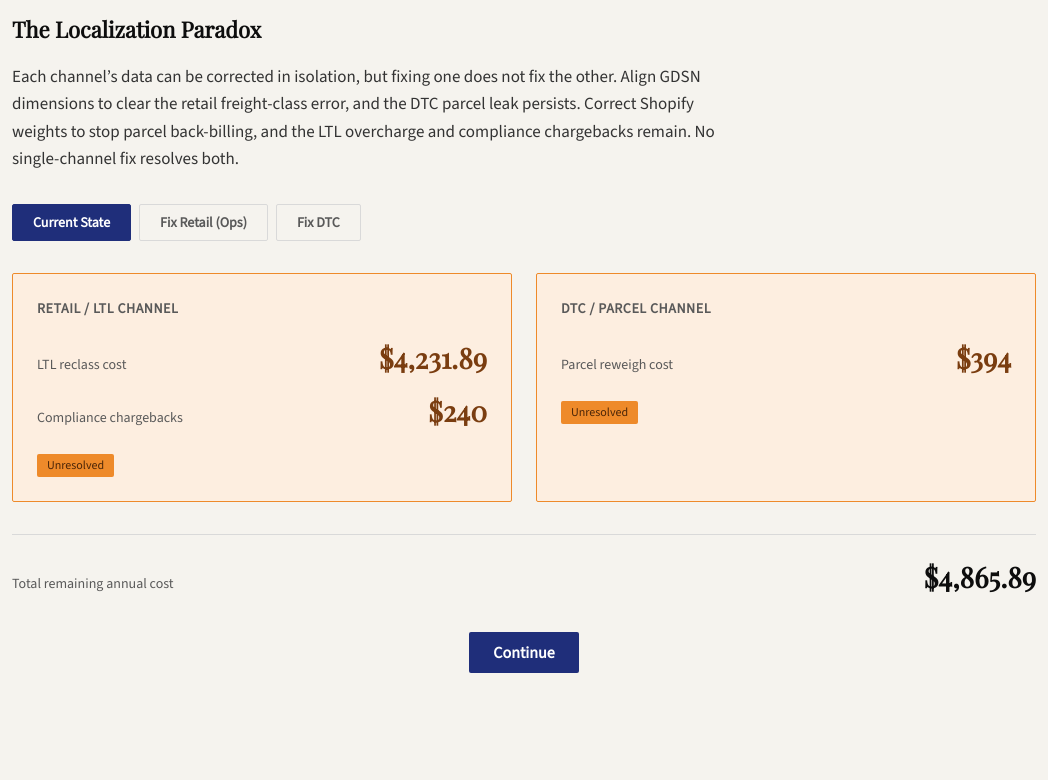
Test: ParadoxToggle › Fix DTC clears parcel channel, retail remains
The width and height of the screenshot is (1048, 780).
Click the button "Fix DTC": click(318, 222) [276, 204, 361, 241]
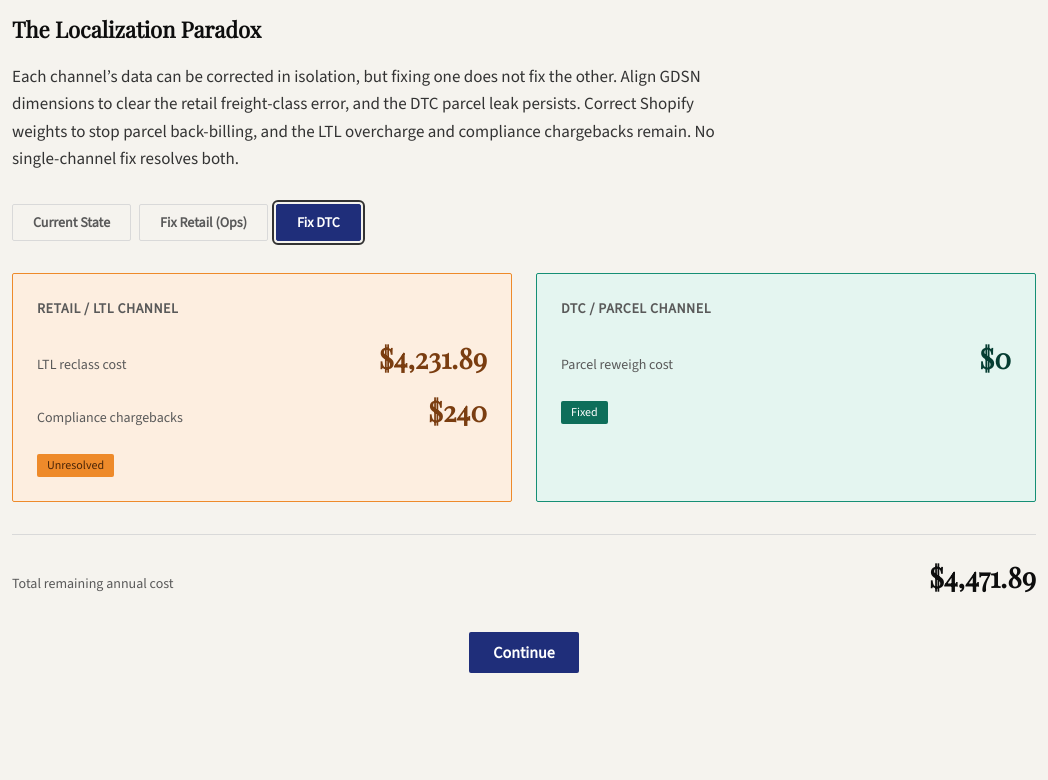
Expected: the text "Unresolved" is shown, [37, 454, 114, 477]
Expected: the text "Fixed" is shown, [561, 401, 608, 424]
